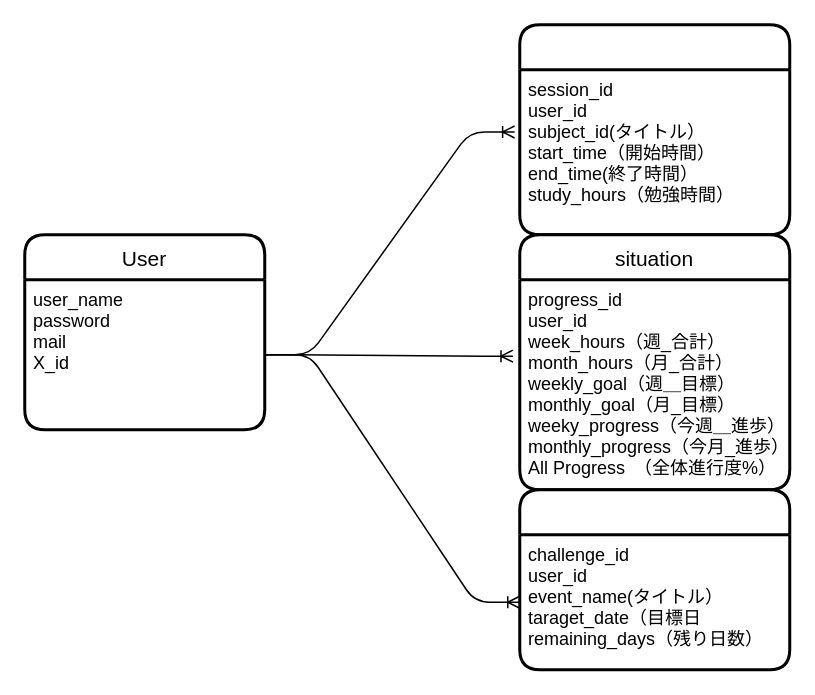
Image size: 815x695. Some labels were removed from this diagram. The shapes that lost their labels are listed below. From the top down, each one's box as (x1, y1, x2, y2) in pixels, then its label:
(518, 22, 790, 236): Tasuku
(518, 488, 790, 670): dye_challge
